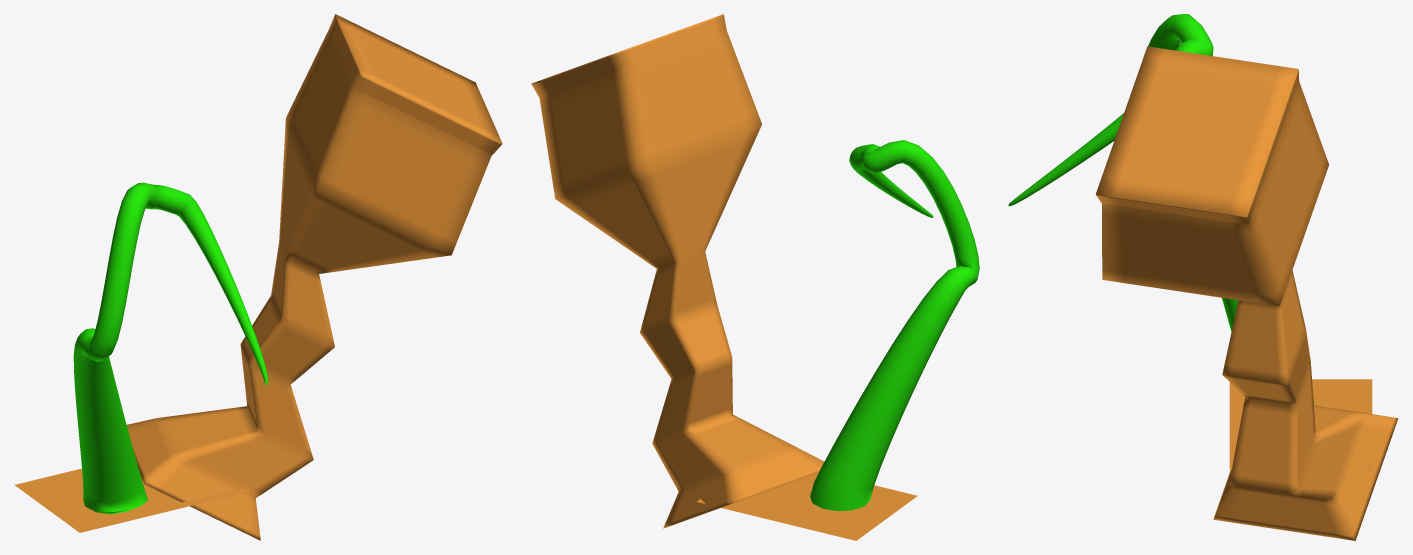
Rendered from Floor_Platforms_005.fbx.
The picture shows the model from 3 angles, left to right: view 1: azimuth 30°, elevation 25°; view 2: azimuth 150°, elevation 25°; view 3: azimuth 270°, elevation 25°; orthographic projection. The views are drawn at different scales.
Visible parts, largest first — view 1: Floor.Platforms.005|cliff.001|Dupli|2, Floor.Platforms.005|BezierCurve.Trunk.001|Dupli|1, Floor.Platforms.005; view 2: Floor.Platforms.005|cliff.001|Dupli|2, Floor.Platforms.005|BezierCurve.Trunk.001|Dupli|1, Floor.Platforms.005; view 3: Floor.Platforms.005|cliff.001|Dupli|2, Floor.Platforms.005|BezierCurve.Trunk.001|Dupli|1, Floor.Platforms.005.
Part boxes in pixels (bbox=[...]): Floor.Platforms.005|cliff.001|Dupli|2: bbox=[126, 14, 502, 540]; Floor.Platforms.005|BezierCurve.Trunk.001|Dupli|1: bbox=[73, 182, 268, 514]; Floor.Platforms.005: bbox=[15, 468, 249, 532]; Floor.Platforms.005|cliff.001|Dupli|2: bbox=[531, 14, 824, 528]; Floor.Platforms.005|BezierCurve.Trunk.001|Dupli|1: bbox=[810, 140, 979, 510]; Floor.Platforms.005: bbox=[696, 472, 917, 540]; Floor.Platforms.005|cliff.001|Dupli|2: bbox=[1095, 46, 1398, 540]; Floor.Platforms.005|BezierCurve.Trunk.001|Dupli|1: bbox=[1008, 14, 1314, 405]; Floor.Platforms.005: bbox=[1229, 379, 1372, 469].
Size of the model in its own units: 1517 by 1581 by 1094.
